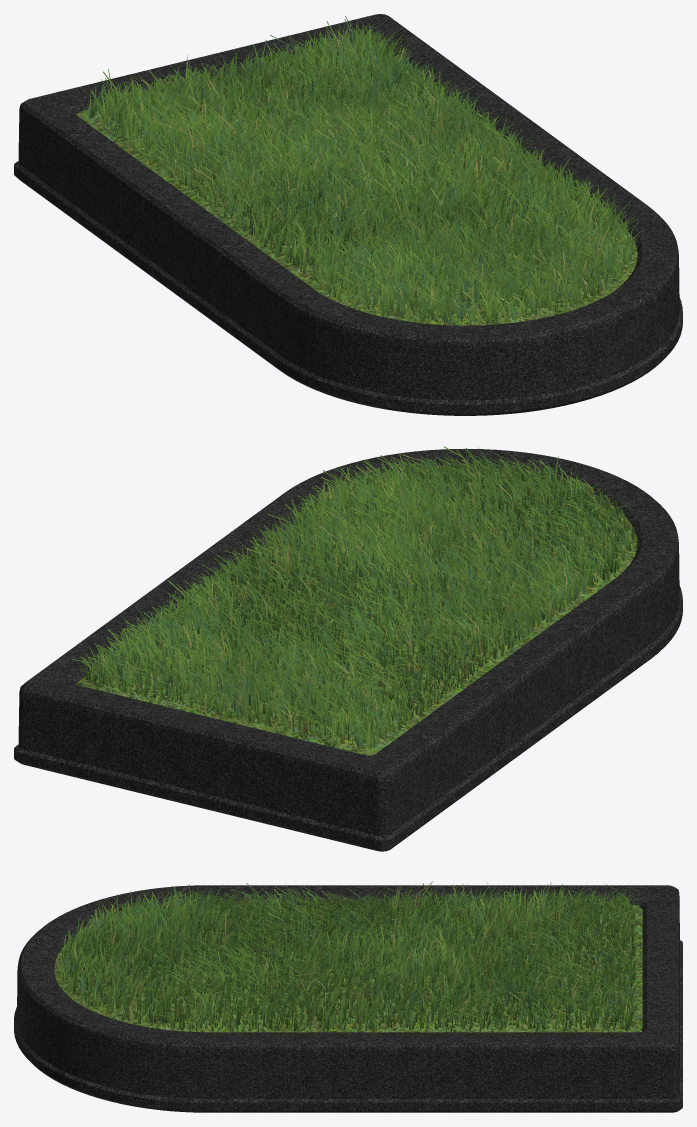
Rendered from flower-round-grass.glb.
3 renders of one model, top to bottom at view 1: azimuth 30°, elevation 25°; view 2: azimuth 150°, elevation 25°; view 3: azimuth 270°, elevation 25°, orthographic. The views are drawn at different scales.
Visible parts, largest first — view 1: SM_flower_round_grass; view 2: SM_flower_round_grass; view 3: SM_flower_round_grass.
Part boxes in pixels (left/top/right/bottom): SM_flower_round_grass: left=14, top=14, right=682, bottom=415; SM_flower_round_grass: left=14, top=446, right=682, bottom=851; SM_flower_round_grass: left=14, top=881, right=682, bottom=1112.
Size of the model in its own units: 0.66 by 0.1913 by 1.14.
4 materials, 3 textured.
